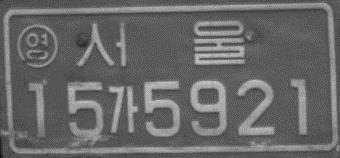1: (287, 76, 311, 137), (26, 79, 48, 141)
2: (236, 77, 275, 137)
5: (65, 79, 103, 138), (143, 79, 181, 137)
9: (187, 79, 229, 137)
가: (104, 82, 140, 137)
서울_D: (76, 19, 248, 70)
영: (18, 22, 58, 69)
